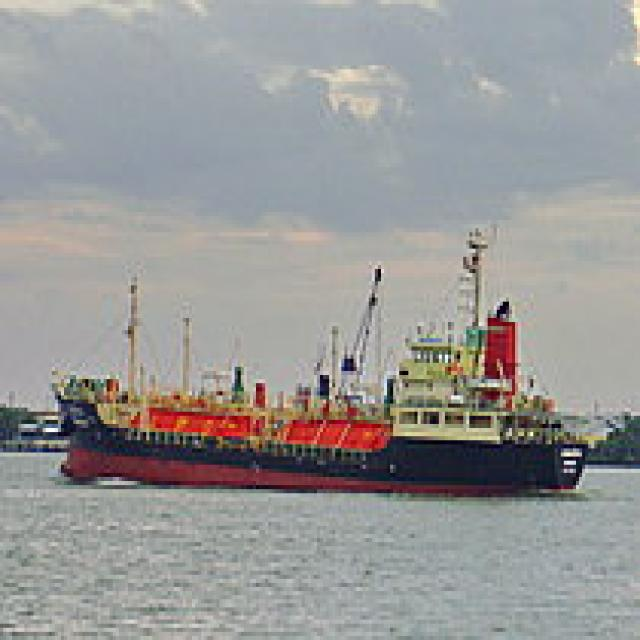Tanker: (43, 225, 591, 498)
